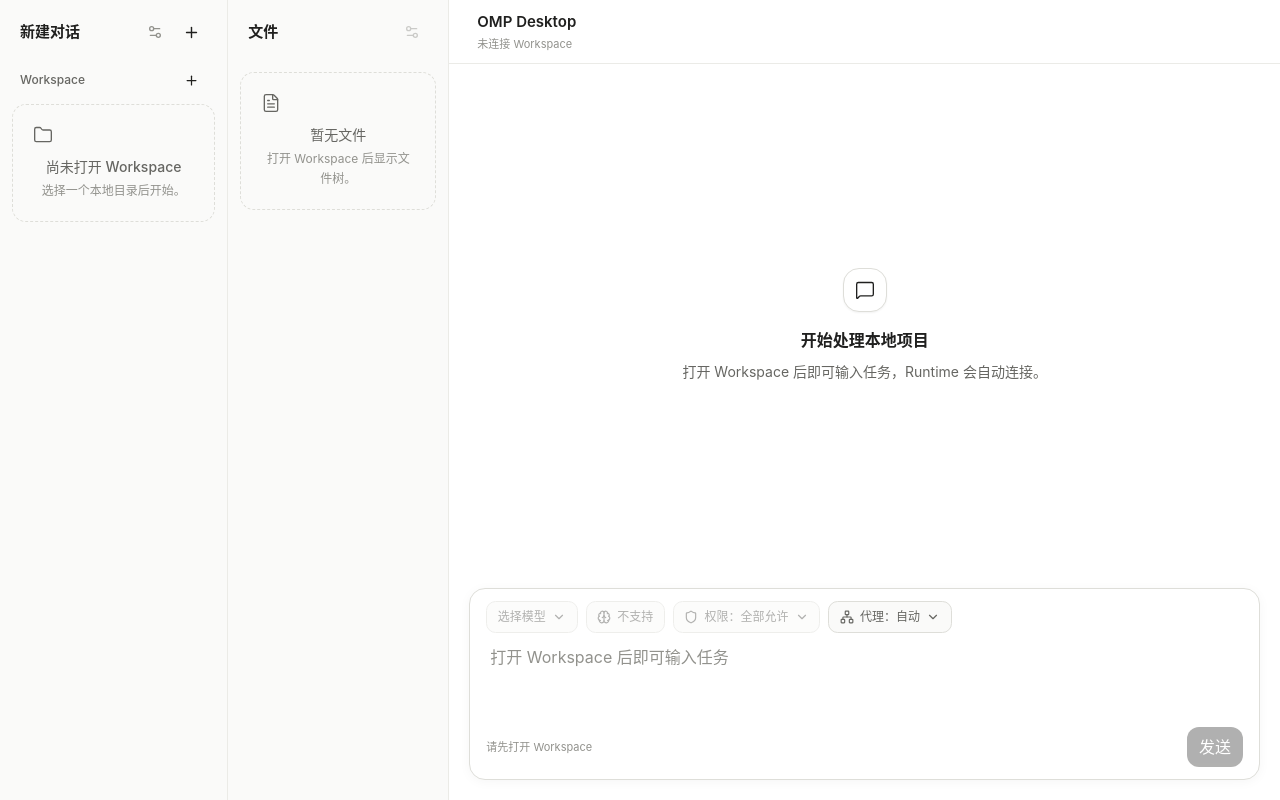
App shell › 运行中将 Enter 输入发送为 Follow-up，并拒绝 Slash Command
The image size is (1280, 800).
Type "补充测试" into the text box named "任务输入" at (865, 681), box x1=482 y1=641 x2=1247 y2=721
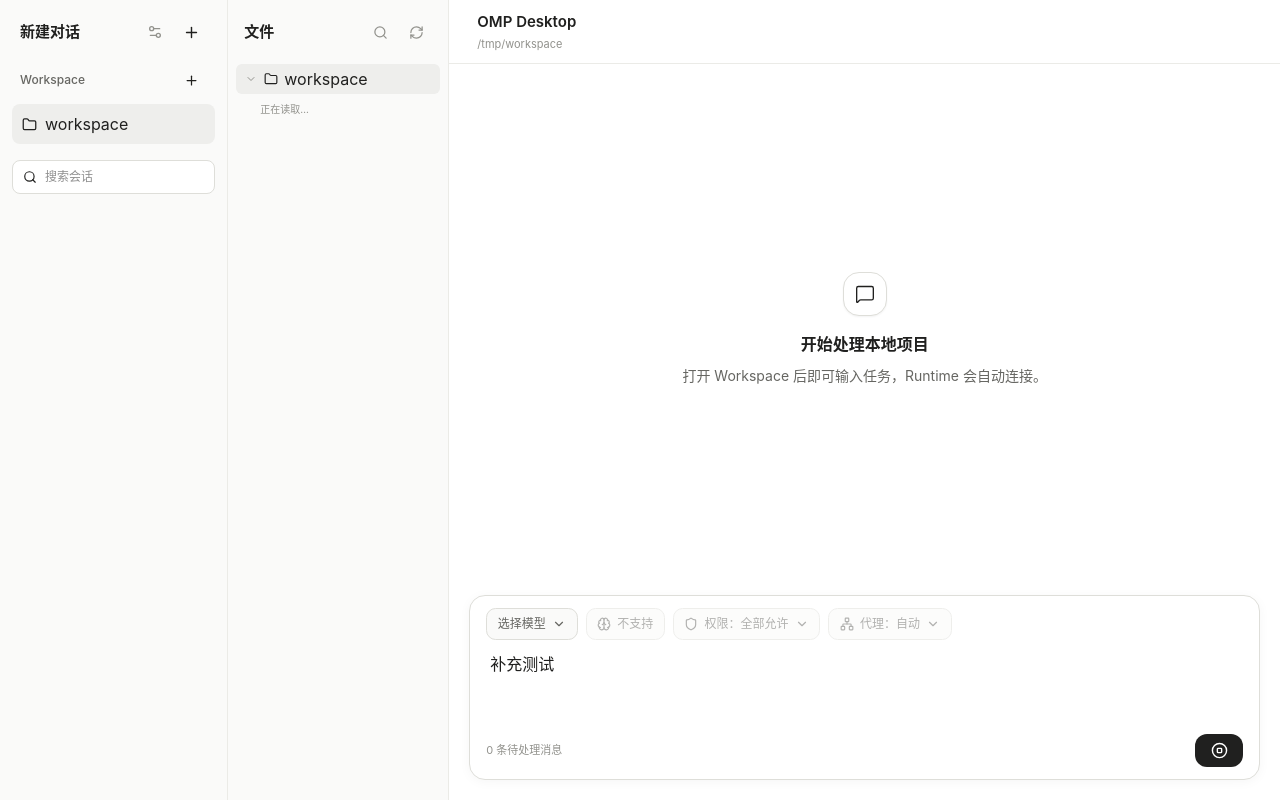
Press Enter in the text box named "任务输入", box x1=482 y1=648 x2=1247 y2=728
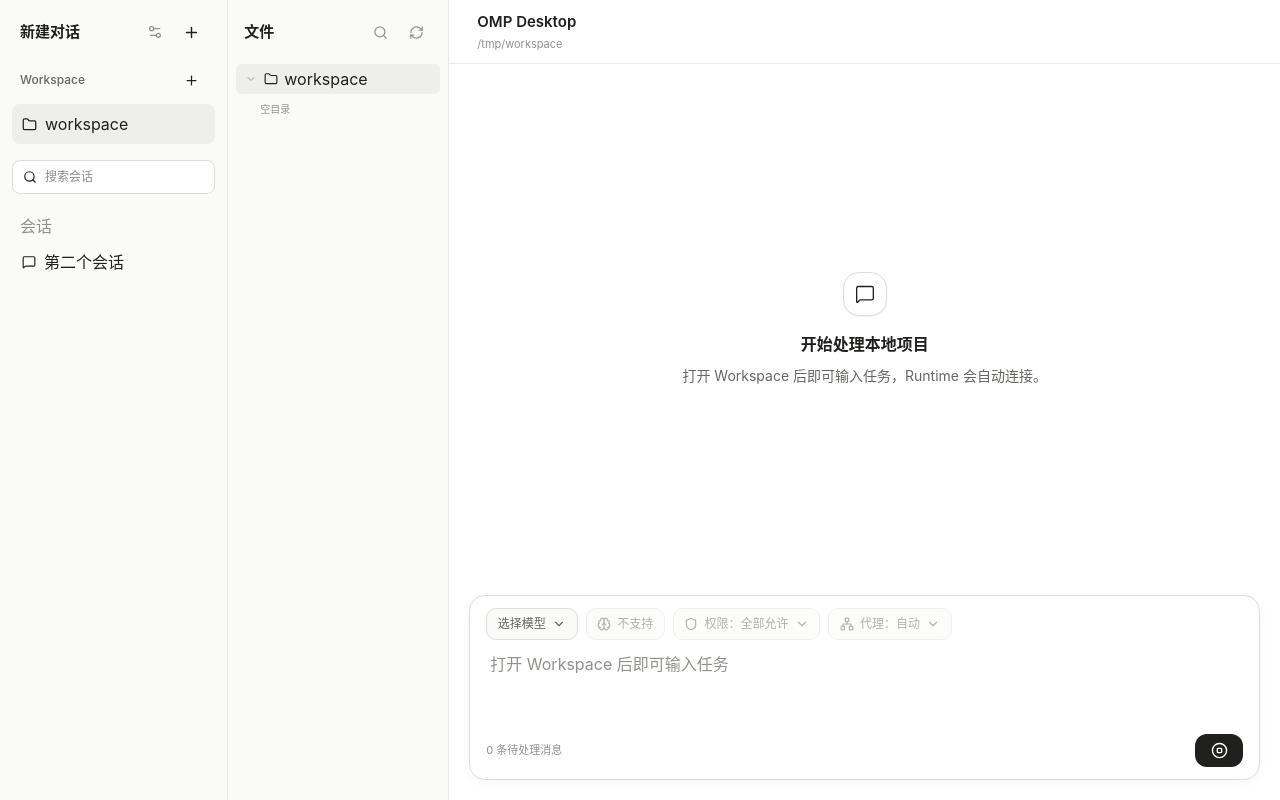
Check: the text box named "任务输入" is enabled
Type "/compact" into the text box named "任务输入" at (865, 688), box x1=482 y1=648 x2=1247 y2=728
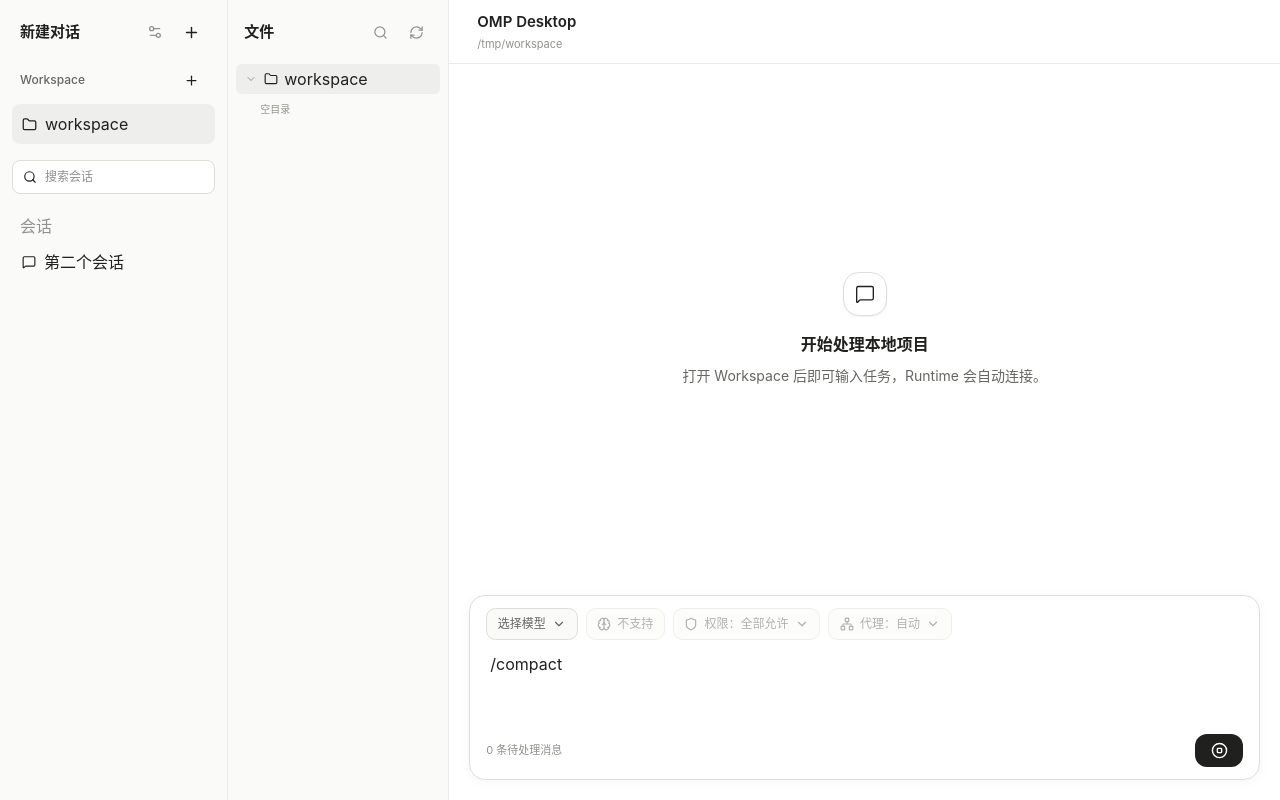
Press Enter in the text box named "任务输入", box x1=482 y1=648 x2=1247 y2=728
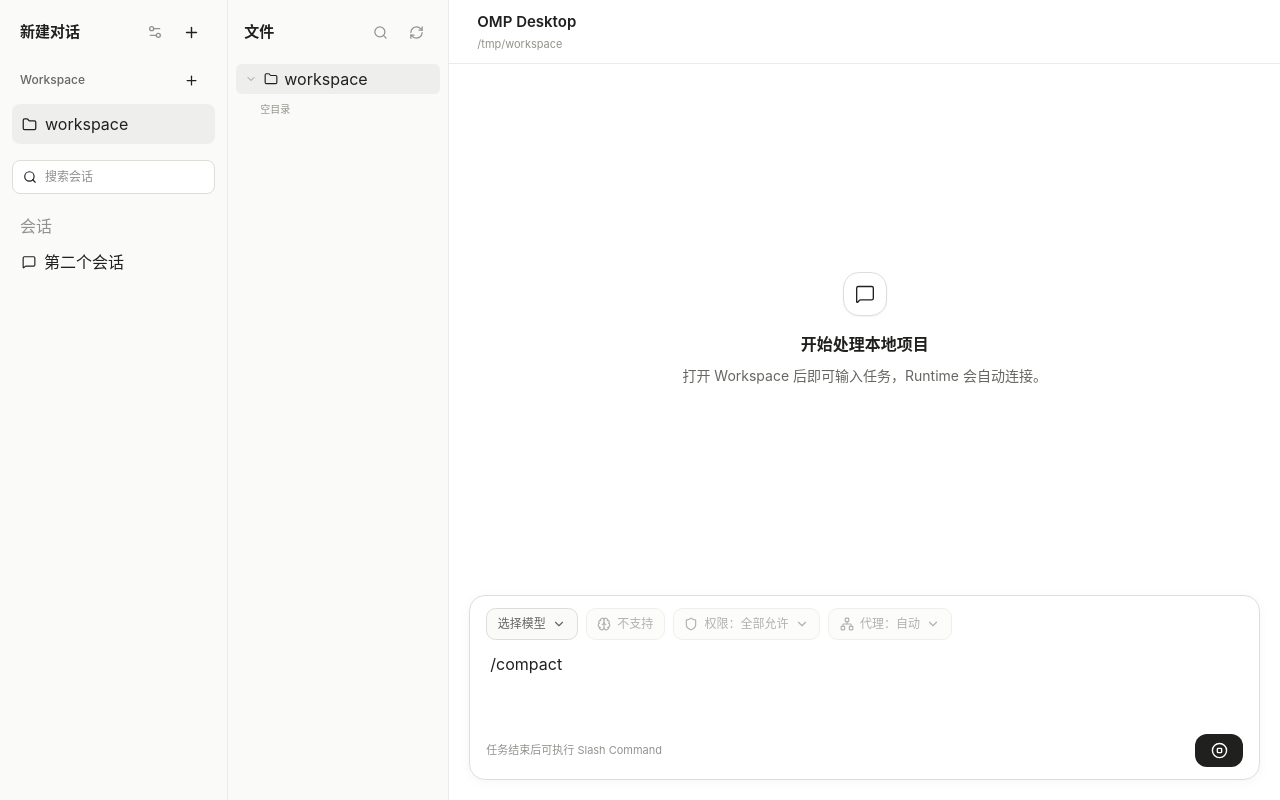
Check: the text "任务结束后可执行 Slash Command" is shown, box x1=486 y1=742 x2=662 y2=759
